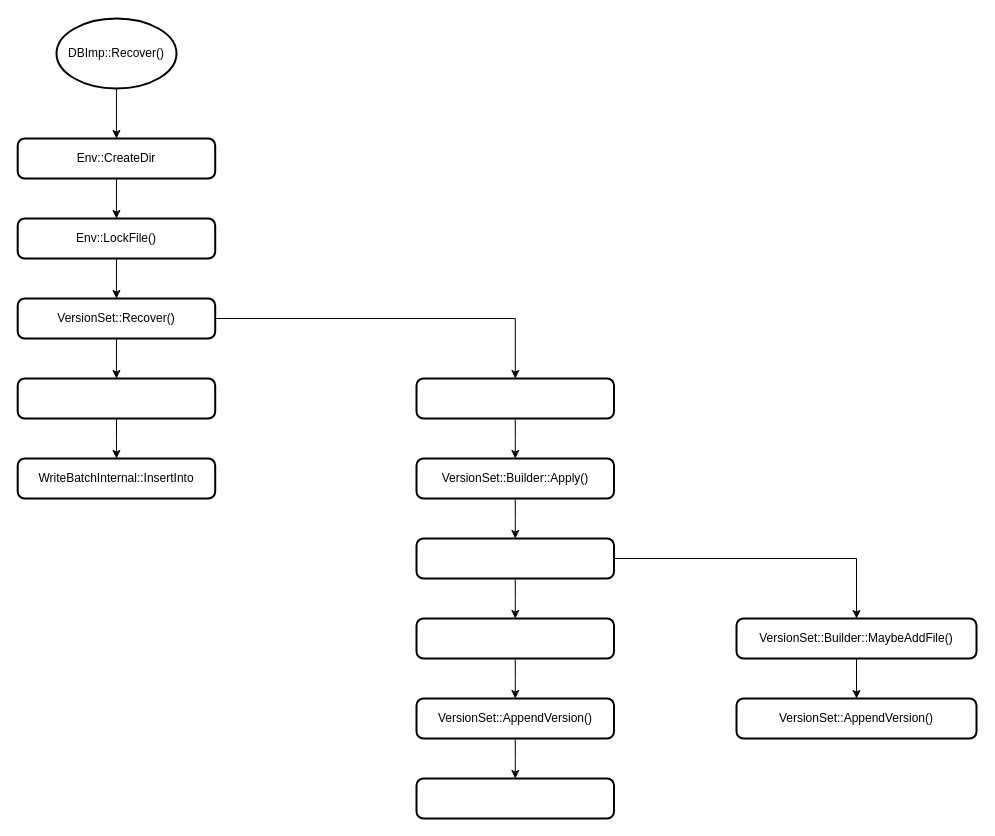
This 995x836 diagram has some shape labels left out. Each missing label, with the centre of its shape:
DBImpl::RecoverLogFile: the point at 116,398
VersionSet::Builder::SaveTo(): the point at 514,558
VersionSet::DecodeFrom(): the point at 514,398
VersionSet::Finalize(): the point at 514,638
VersionSet::ReuseManifest(): the point at 514,798
